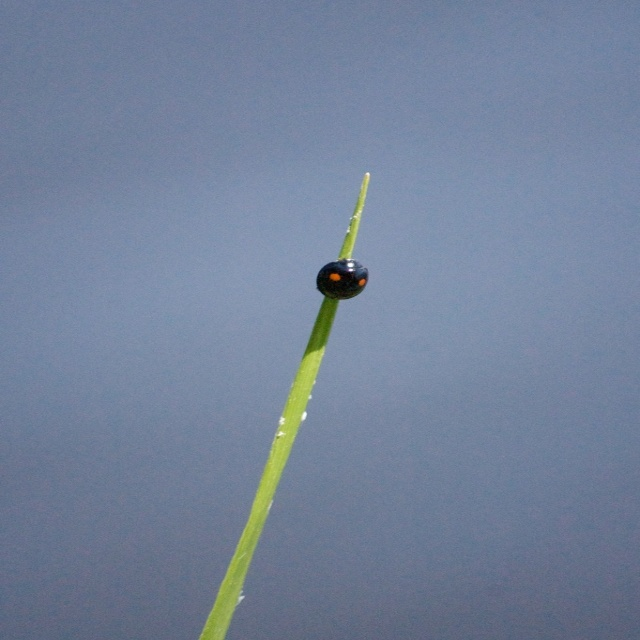Ladybug: (317, 255, 370, 300)
